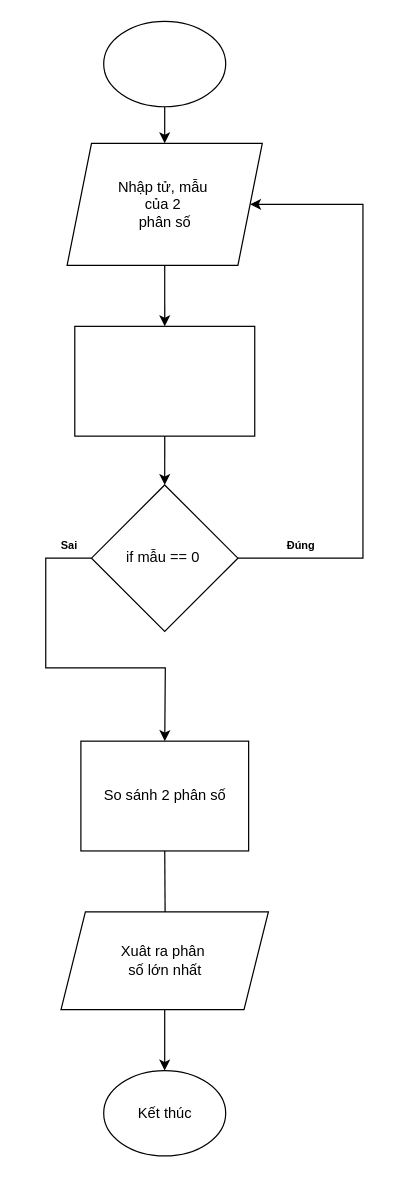
Some shapes in this 394 by 1177 pixel diagram are drawn without their labels. The shapes that lost their labels are listed below. From the top down, each one's box as (x1, y1, x2, y2) in pixels, then its label:
(102, 20, 226, 107): Bắt đầu
(74, 325, 255, 436): Kiểm tra mẫu
